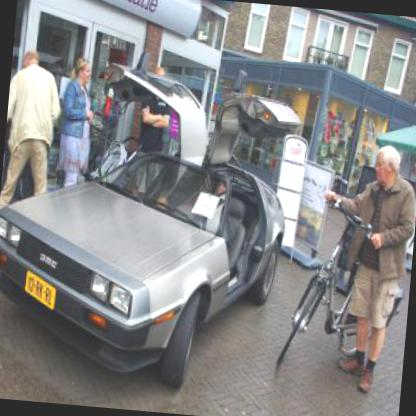car: (0, 93, 318, 415)
